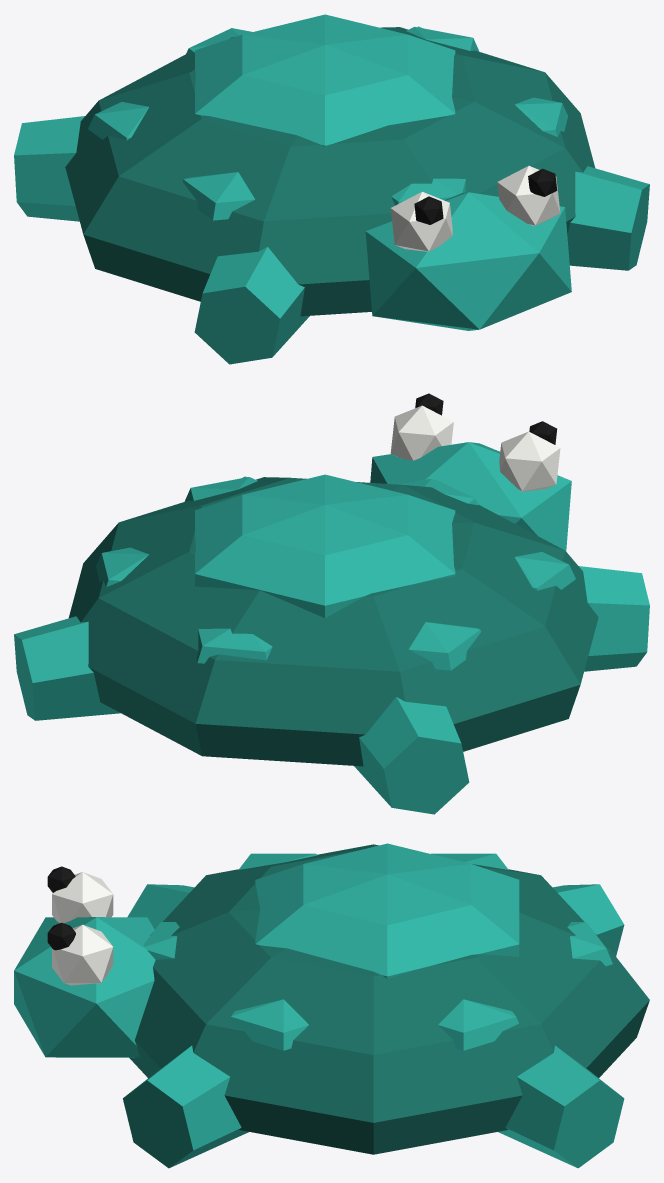
File: alien_lumberer.glb
3 views of the same model, one above another, from view 1: azimuth 30°, elevation 25°; view 2: azimuth 150°, elevation 25°; view 3: azimuth 270°, elevation 25° (orthographic).
Visible parts, largest first — view 1: alien_lumberer, anim_leg_FL, anim_leg_FR, anim_leg_BL; view 2: alien_lumberer, anim_leg_BL, anim_leg_BR, anim_leg_FL; view 3: alien_lumberer, anim_leg_BR, anim_leg_FR, anim_leg_BL, anim_leg_FL.
Part boxes in pixels (box(x1,y1,x2,y2)): alien_lumberer: box(65, 14, 595, 330); anim_leg_FL: box(194, 247, 309, 364); anim_leg_FR: box(567, 166, 649, 270); anim_leg_BL: box(14, 116, 84, 221); alien_lumberer: box(68, 393, 598, 766); anim_leg_BL: box(354, 697, 469, 814); anim_leg_BR: box(14, 616, 120, 720); anim_leg_FL: box(579, 566, 649, 671); alien_lumberer: box(14, 843, 649, 1154); anim_leg_BR: box(498, 1045, 624, 1168); anim_leg_FR: box(123, 1045, 248, 1168); anim_leg_BL: box(553, 884, 624, 956); anim_leg_FL: box(127, 884, 194, 929).
Bounding box in the file's own units: 42 × 15.4 × 45.9.
Materials: 1 (1 with a texture image).
